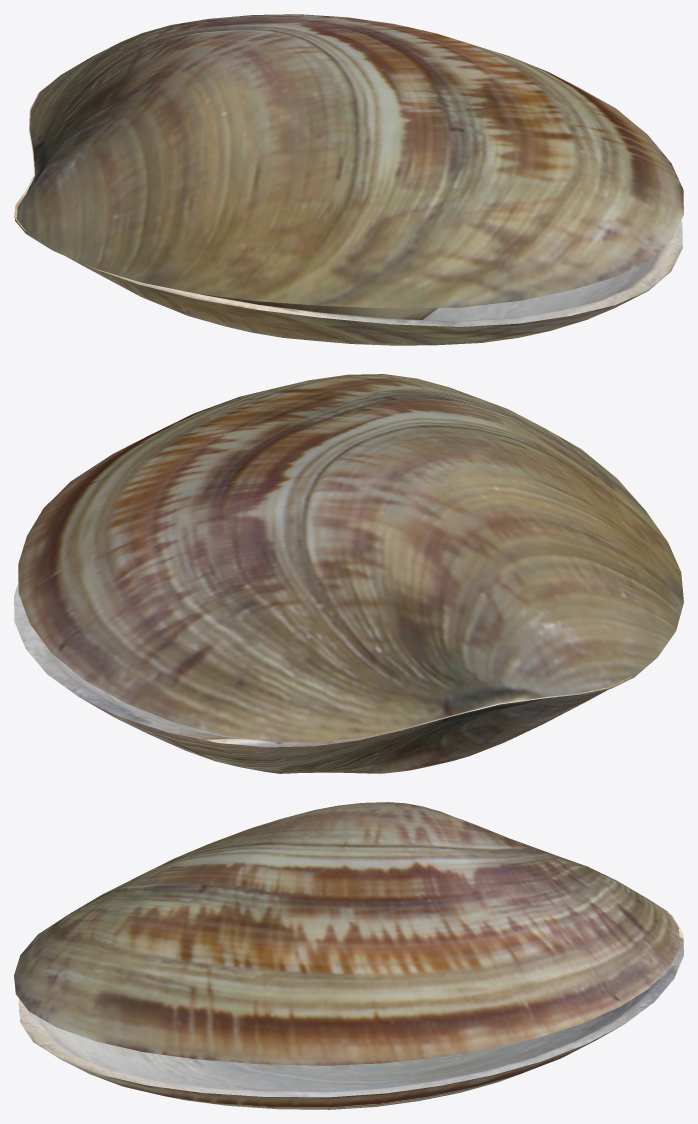
Rendered from Clam_2.fbx.
The picture shows the model from 3 angles, top to bottom: view 1: azimuth 30°, elevation 25°; view 2: azimuth 150°, elevation 25°; view 3: azimuth 270°, elevation 25°; orthographic projection. The views are drawn at different scales.
Parts seen in each view (by area): view 1: Clam_Top1, Clam_Meat1; view 2: Clam_Top1; view 3: Clam_Top1.
Part boxes in pixels (<box>): Clam_Top1: <box>14,14,683,345</box>; Clam_Meat1: <box>201,294,437,319</box>; Clam_Top1: <box>14,374,683,773</box>; Clam_Top1: <box>14,802,683,1109</box>.
Size of the model in its own units: 5.56 by 2.48 by 6.33.
